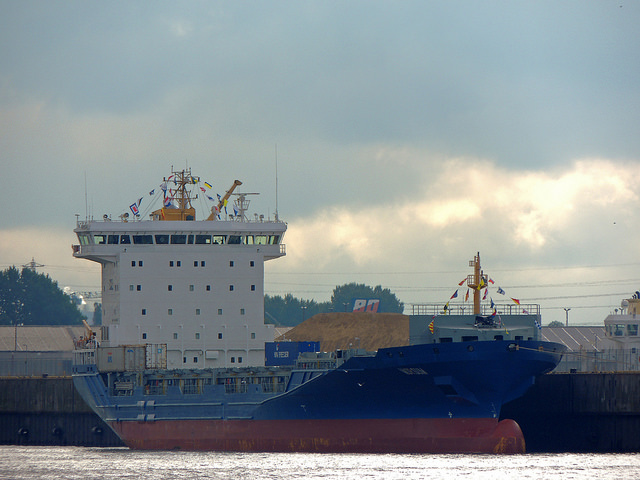container_ship: (70, 171, 563, 453)
